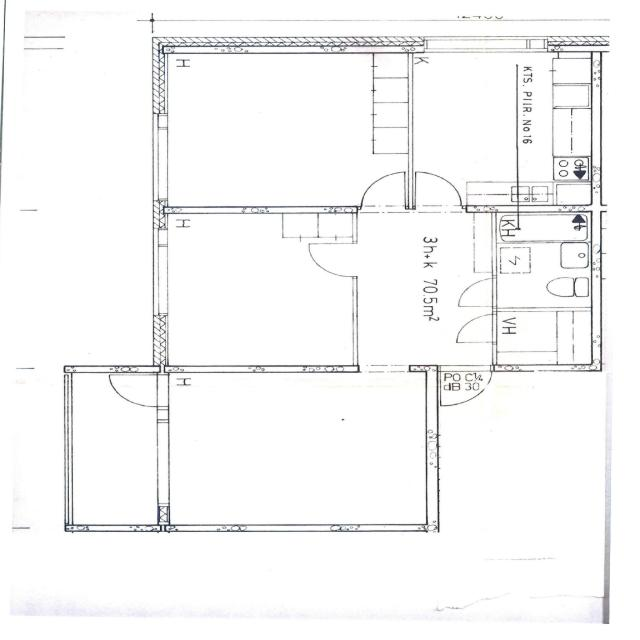door: (440, 365, 490, 408), (107, 374, 167, 406), (416, 174, 461, 212), (305, 244, 357, 276), (361, 175, 405, 212), (452, 278, 496, 306), (453, 314, 496, 342)
